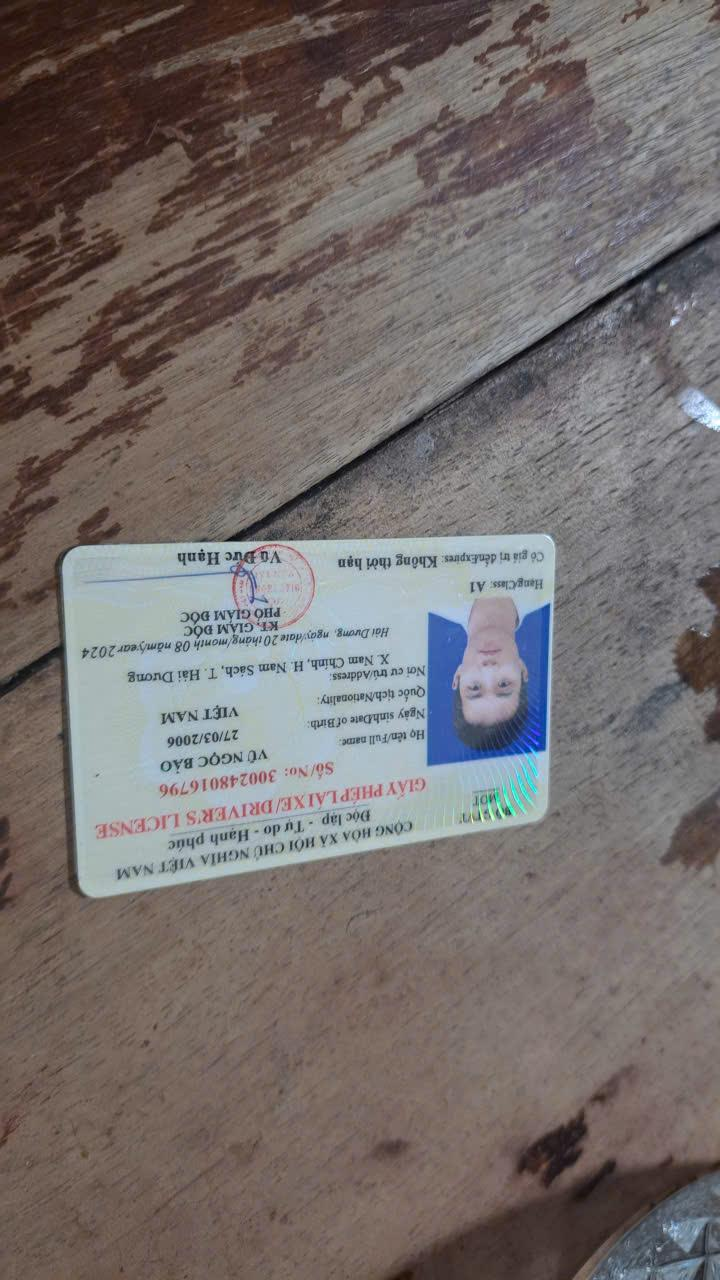gplx: (54, 523, 565, 908)
